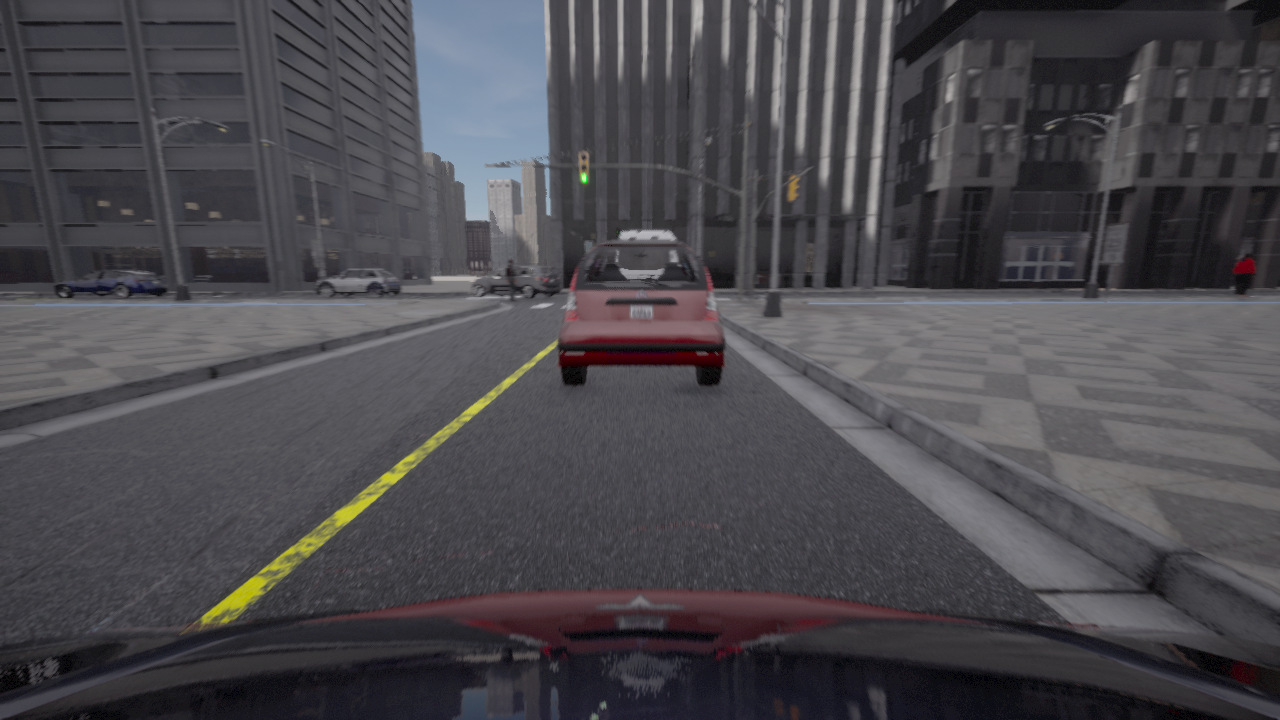cyclist: (0, 588, 1279, 719), (558, 239, 724, 385), (54, 269, 167, 297), (471, 264, 560, 298), (315, 268, 400, 297), (618, 229, 676, 240)
pedestrian: (1233, 254, 1254, 296), (506, 259, 516, 301)
